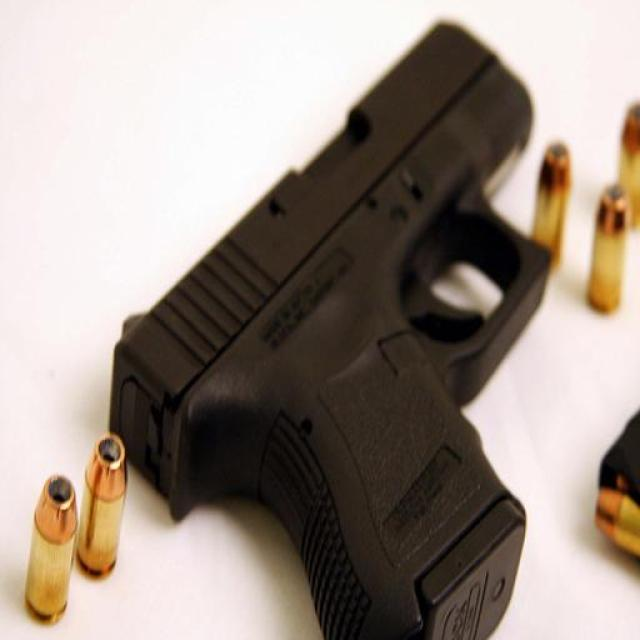pistol: (109, 16, 553, 640)
